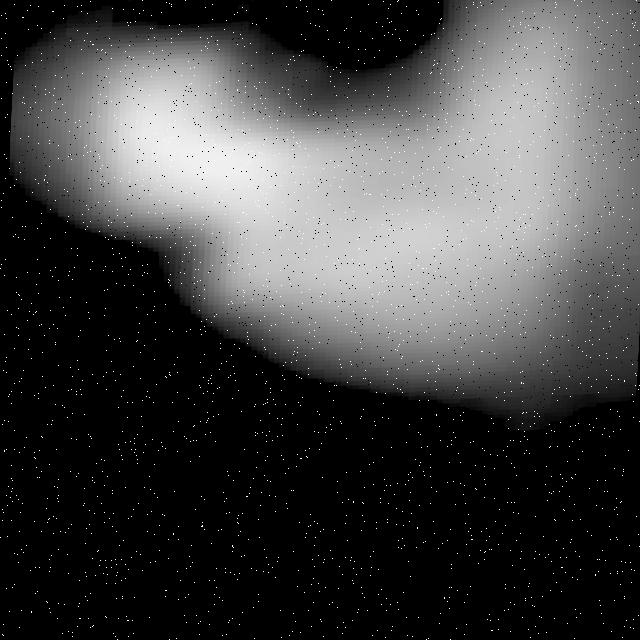person: (19, 1, 626, 433)
